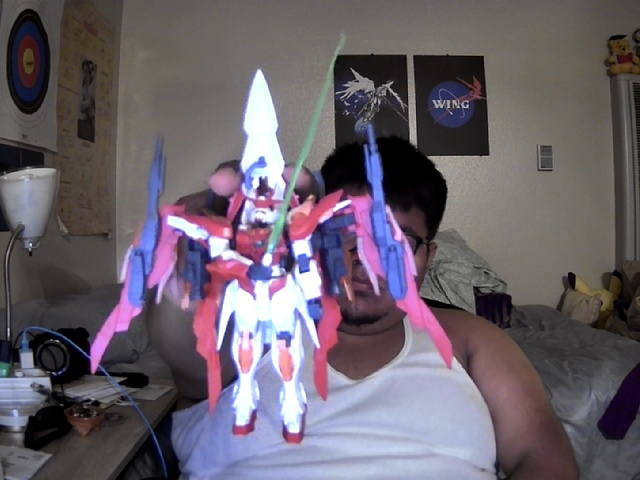Honoo: (91, 67, 452, 445)
